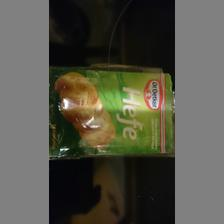Kuchen: (48, 64, 172, 160)
